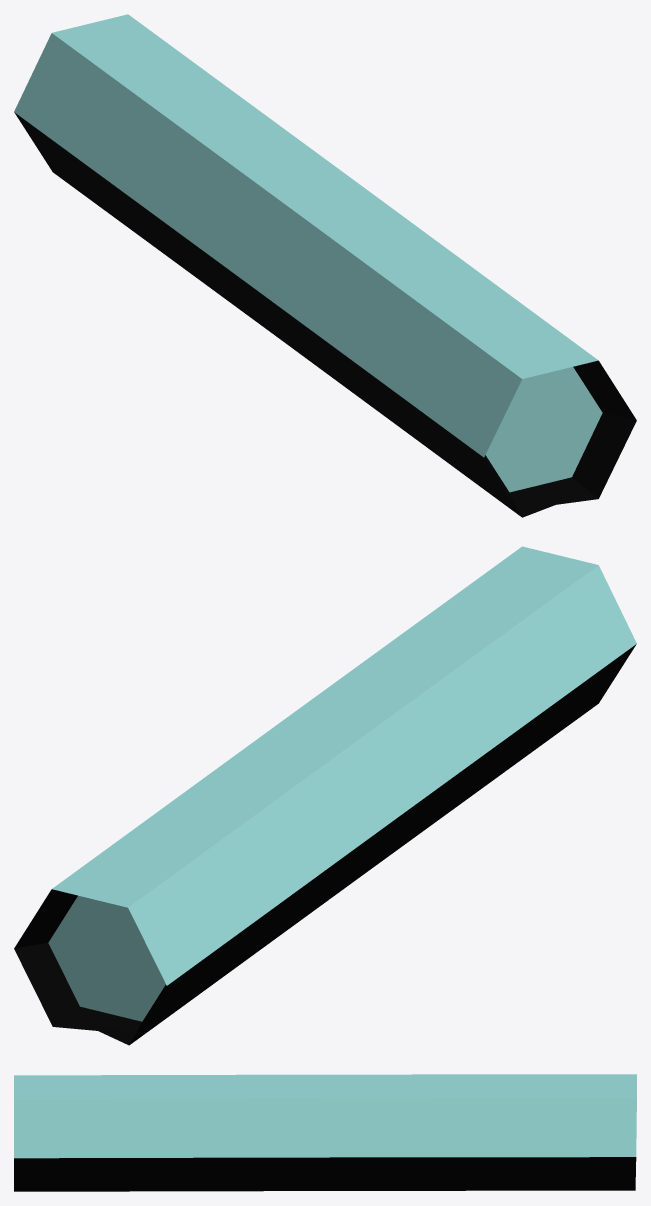
File: WoodLog.fbx
3 renders of one model, top to bottom at view 1: azimuth 30°, elevation 25°; view 2: azimuth 150°, elevation 25°; view 3: azimuth 270°, elevation 25°, orthographic. The views are drawn at different scales.
Visible parts, largest first — view 1: Snow2, Wood; view 2: Snow2, Wood; view 3: Snow2, Wood.
Part boxes in pixels (bbox=[...]): Snow2: bbox=[14, 14, 602, 492]; Wood: bbox=[14, 112, 636, 517]; Snow2: bbox=[48, 546, 636, 1021]; Wood: bbox=[14, 644, 636, 1045]; Snow2: bbox=[14, 1074, 636, 1158]; Wood: bbox=[14, 1157, 636, 1191].
Size of the model in its own units: 1.01 by 0.8887 by 5.4.
